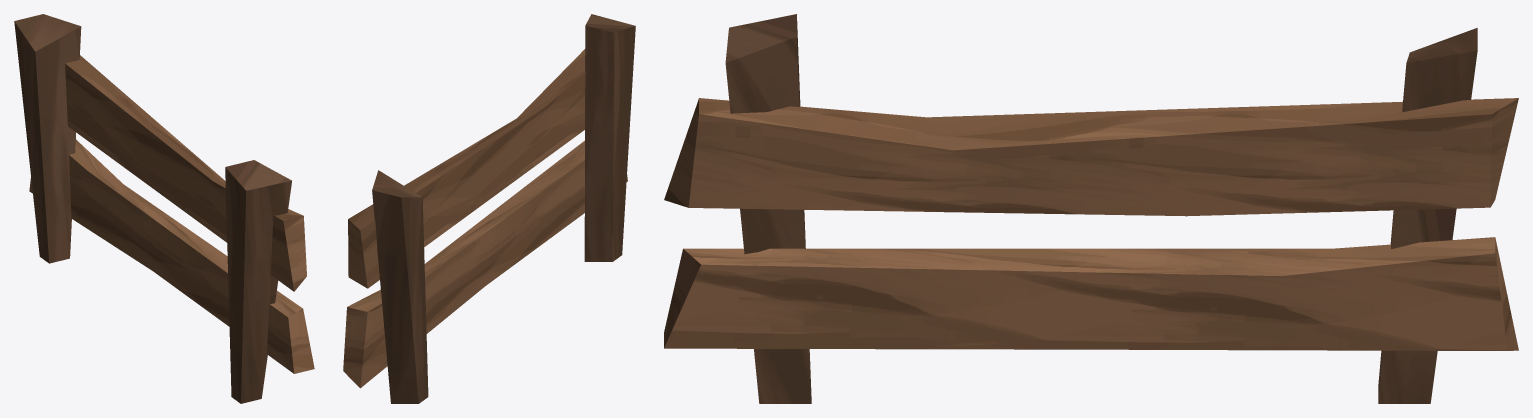
File: Fence_2.fbx
3 renders of one model, left to right at view 1: azimuth 30°, elevation 25°; view 2: azimuth 150°, elevation 25°; view 3: azimuth 270°, elevation 25°, orthographic. The views are drawn at different scales.
Visible parts, largest first — view 1: _Fence_2; view 2: _Fence_2; view 3: _Fence_2.
Part boxes in pixels (x1,y1,x2,y2): _Fence_2: (14, 14, 314, 403); _Fence_2: (343, 14, 635, 403); _Fence_2: (664, 14, 1518, 403).
Size of the model in its own units: 19.69 by 89.25 by 187.
